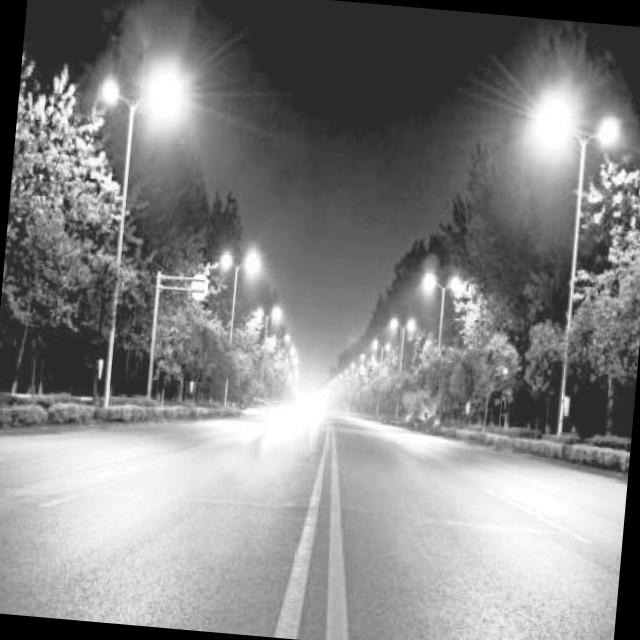Light: (74, 64, 180, 417), (510, 108, 618, 440), (206, 250, 258, 410), (408, 274, 459, 419), (382, 318, 414, 420), (248, 306, 282, 400), (365, 339, 388, 414), (266, 333, 290, 402), (356, 352, 374, 410)
